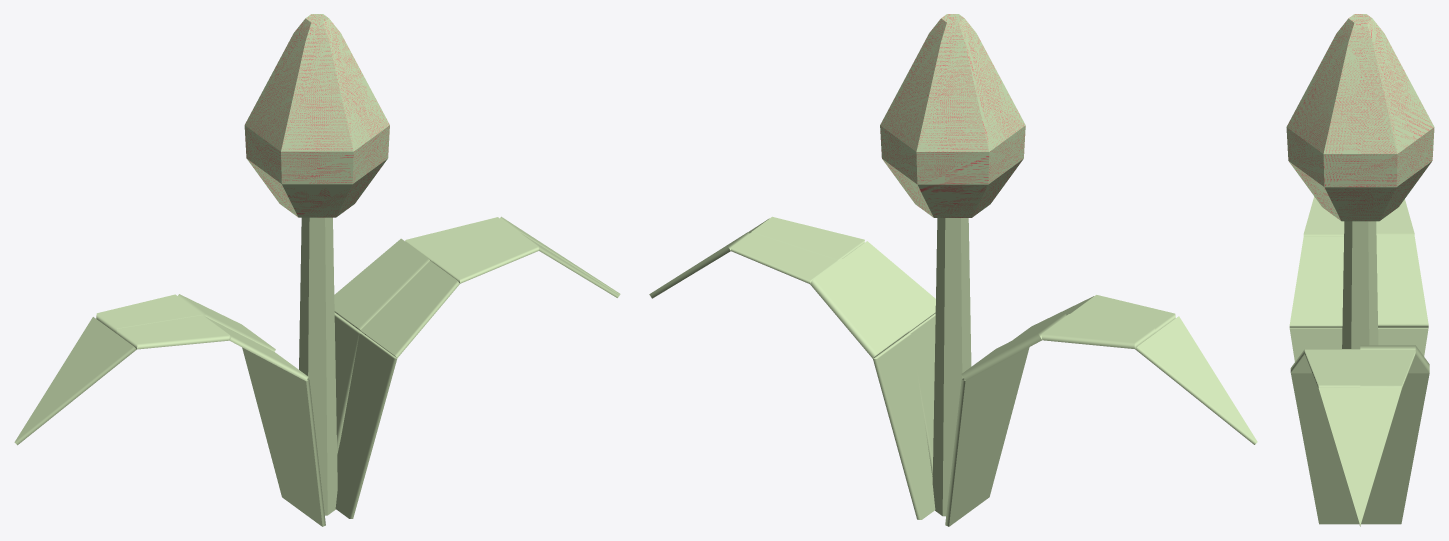
The model's file is Small_Flower.fbx.
3 renders of one model, left to right at view 1: azimuth 30°, elevation 25°; view 2: azimuth 150°, elevation 25°; view 3: azimuth 270°, elevation 25°, orthographic.
Visible parts, largest first — view 1: Small_Flower; view 2: Small_Flower; view 3: Small_Flower.
Part boxes in pixels (x1,y1,x2,y2): Small_Flower: [14, 14, 620, 526]; Small_Flower: [649, 14, 1257, 526]; Small_Flower: [1286, 14, 1434, 526].
Bounding box in the file's own units: 0.7383 × 0.569 × 0.1532.
